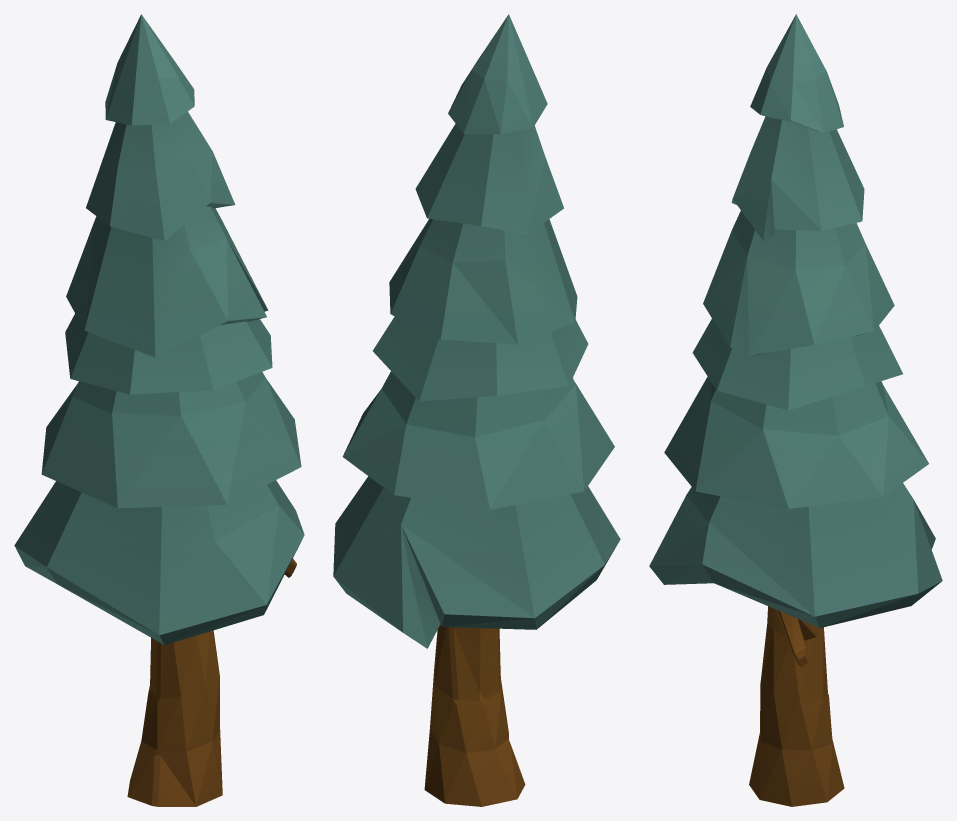
Rendered from tree_fir_slim.glb.
The picture shows the model from 3 angles, left to right: view 1: azimuth 30°, elevation 25°; view 2: azimuth 150°, elevation 25°; view 3: azimuth 270°, elevation 25°; orthographic projection. The views are drawn at different scales.
Parts seen in each view (by area): view 1: tree_fir_slim; view 2: tree_fir_slim; view 3: tree_fir_slim.
Boxes of the visible parts, <box> form: tree_fir_slim: <box>14,14,304,806</box>; tree_fir_slim: <box>333,14,620,806</box>; tree_fir_slim: <box>649,14,942,806</box>.
Bounding box in the file's own units: 1.32 × 3.8 × 1.34.
1 material, 1 textured.
